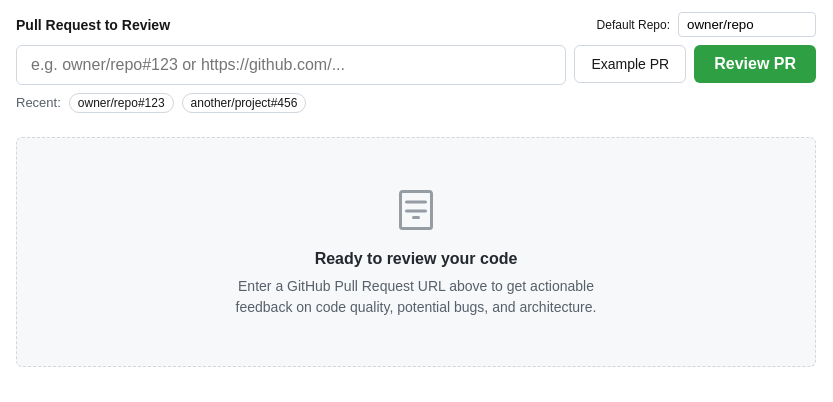
Scenario: ReviewForm Component › shows recognized PR info when input is valid
Type "valid-url" into the field with placeholder "e.g. owner/repo#123 or https://github.com/..." at [291, 65], box [16,45,566,85]
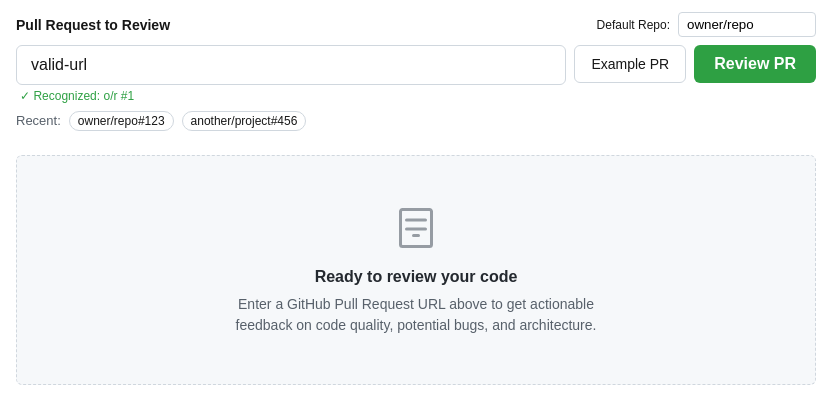
Check: the text "✓ Recognized: o/r #1" is shown, box [20,89,134,103]
